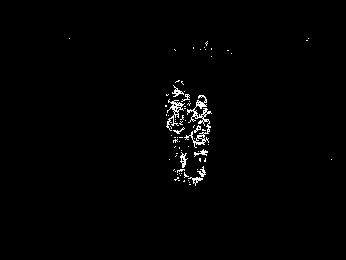person: (165, 79, 190, 181), (190, 95, 212, 186)
